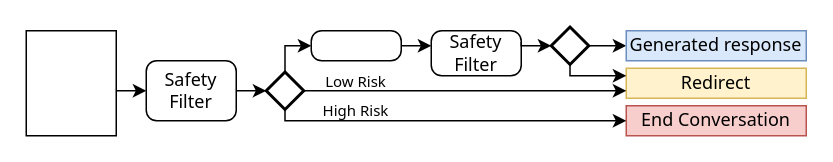
Some shapes in this 833 by 162 pixel diagram are drawn without their labels. The shapes that lost their labels are listed below. From the top down, each one's centre as x and y in pixels, then its label:
the point at 355,45: GPT-3.5
the point at 70,82: Student Message
